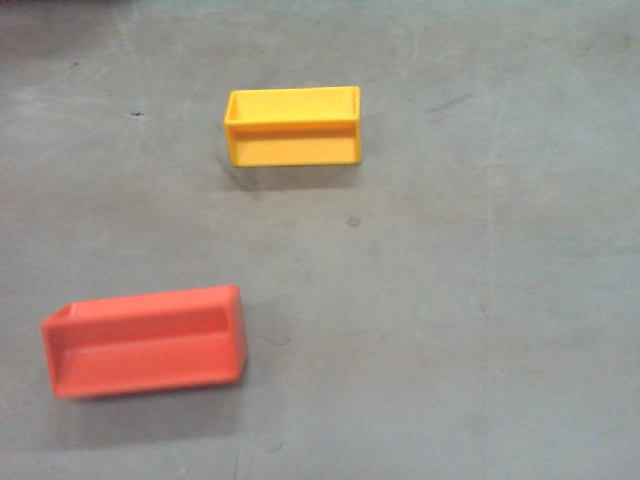RedSample: (37, 285, 249, 403)
YellowSample: (230, 90, 363, 164)
